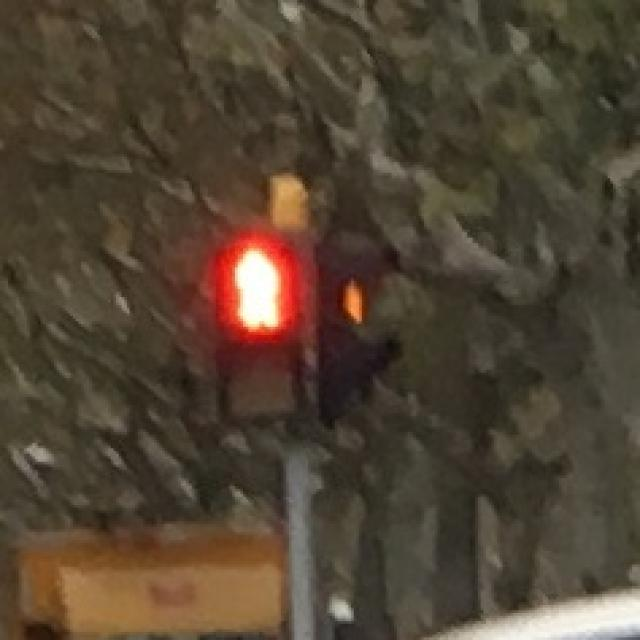red-crossing: (218, 238, 298, 334)
